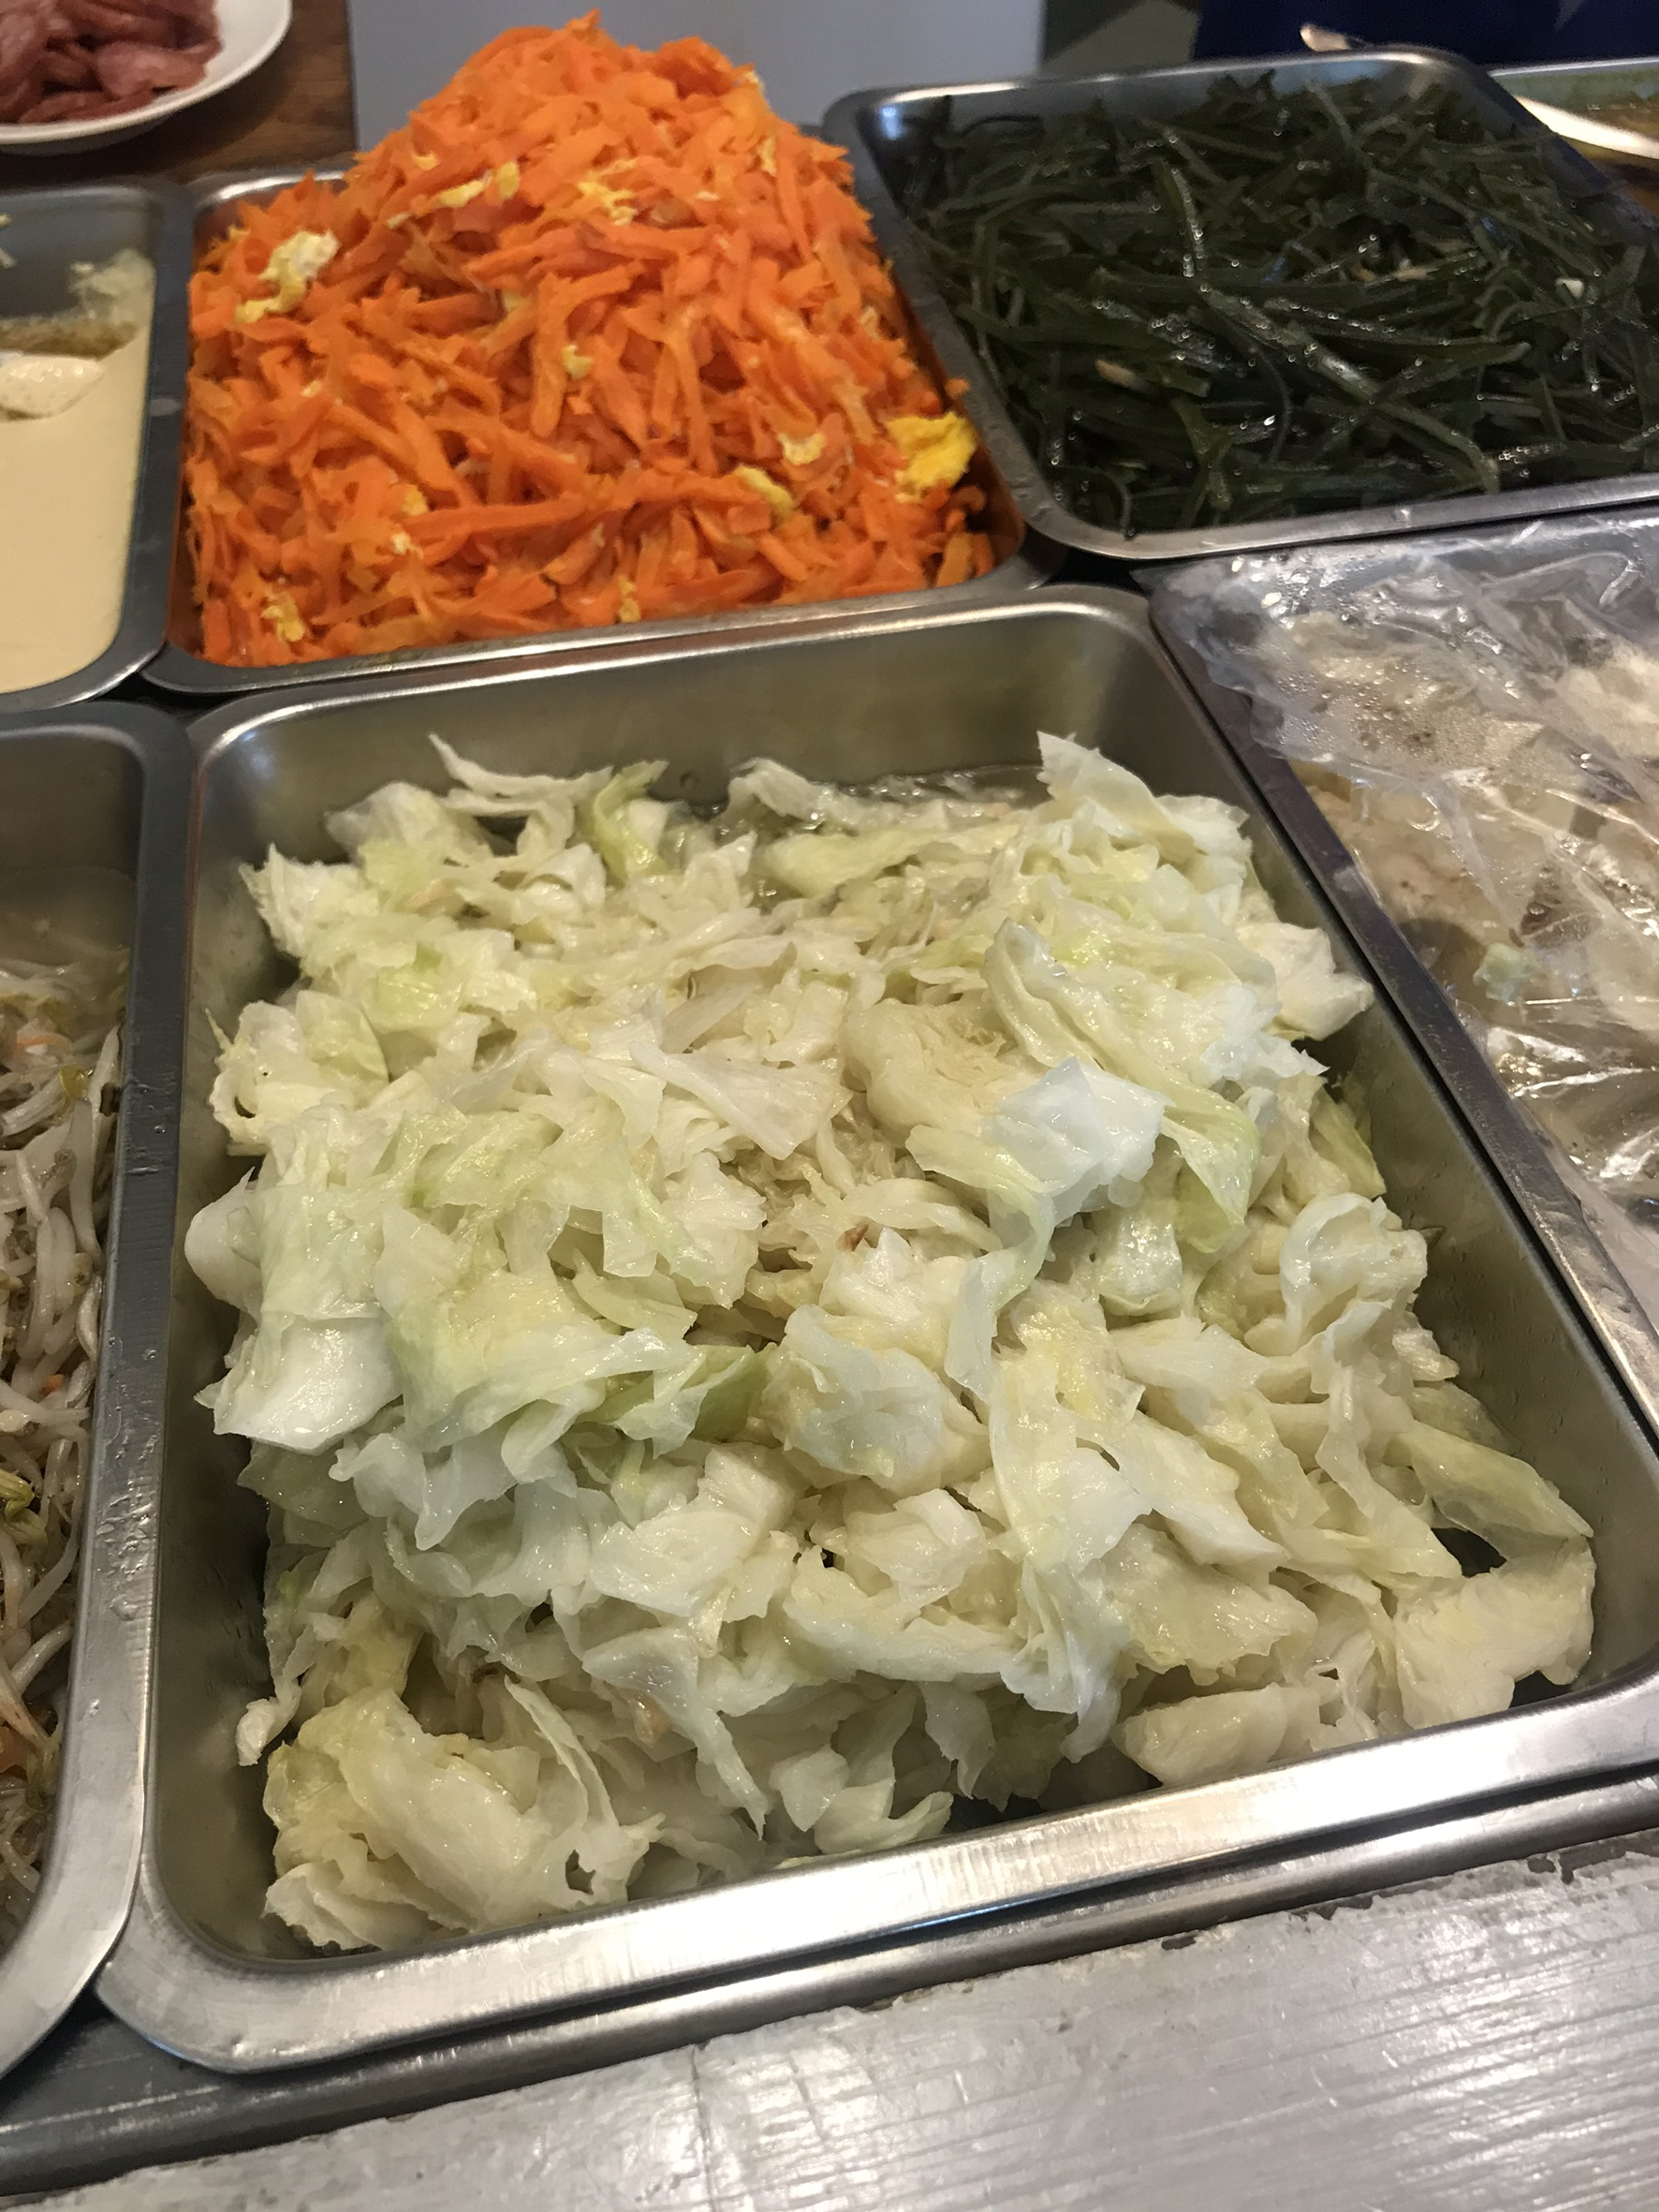carrot_eggs: (253, 117, 957, 596)
chinese_cabbage: (240, 798, 1387, 1778)
chinese_sausage: (2, 2, 211, 105)
mung_bean_sprouts: (2, 959, 117, 1461)
